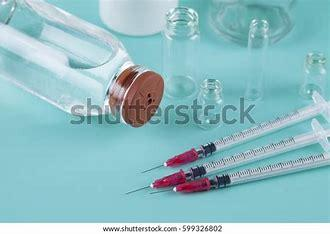Syringe: (122, 86, 324, 206)
